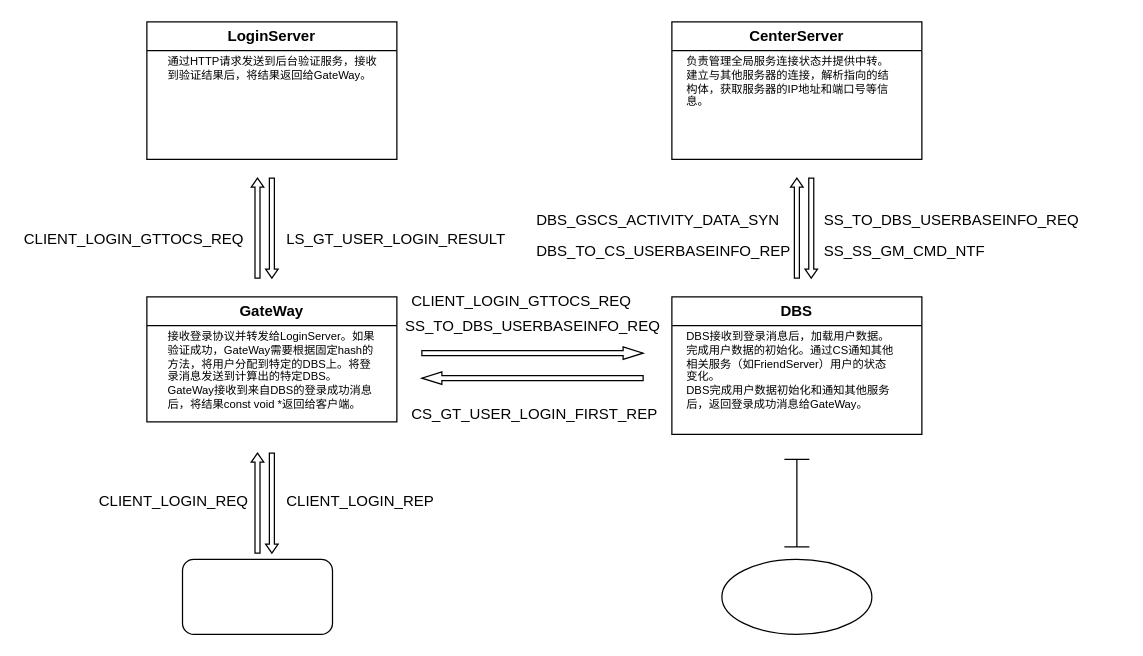
Some shapes in this 1143 by 656 pixel diagram are drawn without their labels. The centre of each missing label's shape, as x and y in pixels:
"Client" goes at pixel 256 596.
"MySQL" goes at pixel 796 596.
